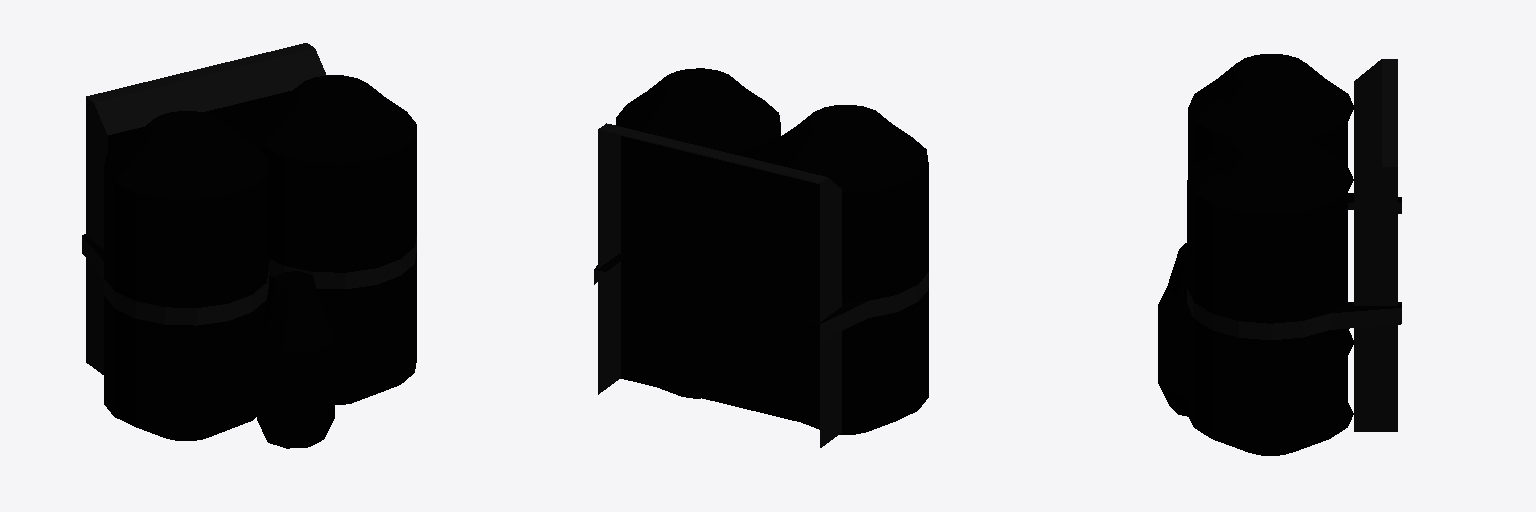
Rendered from flamer_fuel.obj.
3 renders of one model, left to right at view 1: azimuth 30°, elevation 25°; view 2: azimuth 150°, elevation 25°; view 3: azimuth 270°, elevation 25°, orthographic.
Visible parts, largest first — view 1: Cube_Cube.003; view 2: Cube_Cube.003; view 3: Cube_Cube.003.
Boxes of the visible parts, x1,y1,x2,y2 form: Cube_Cube.003: [82, 43, 416, 448]; Cube_Cube.003: [594, 68, 928, 447]; Cube_Cube.003: [1158, 54, 1401, 455].
Bounding box in the file's own units: 0.583 × 0.5743 × 0.423.